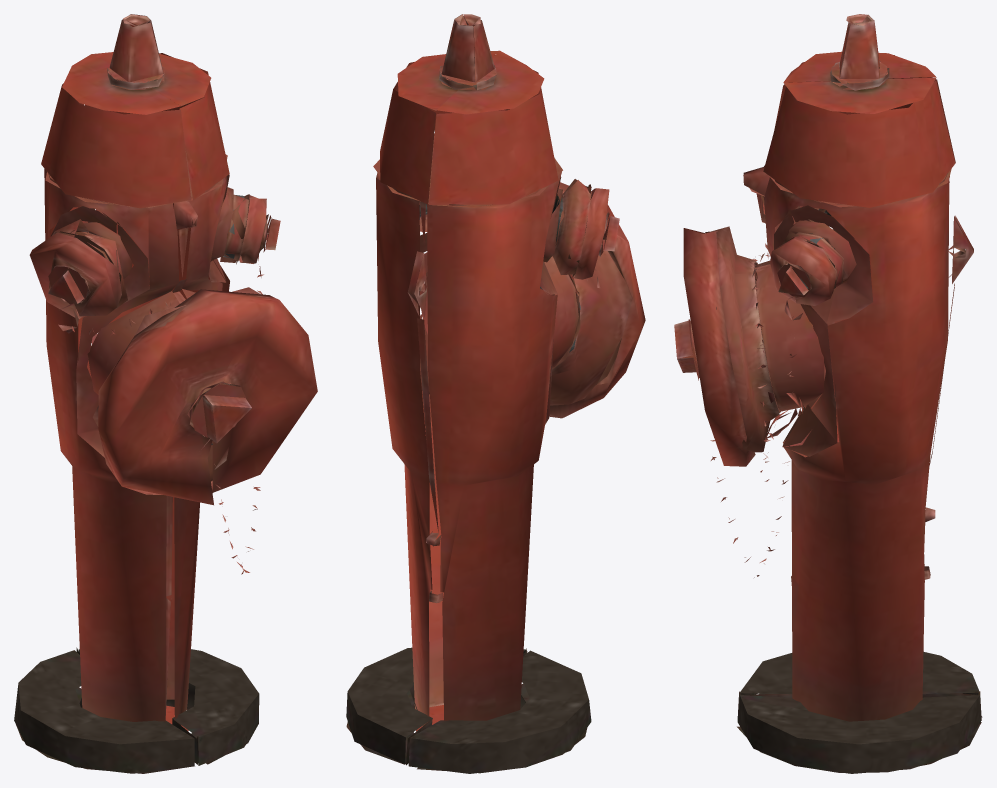
The model's file is hydrant_ph.glb.
3 views of the same model, side by side, from view 1: azimuth 30°, elevation 25°; view 2: azimuth 150°, elevation 25°; view 3: azimuth 270°, elevation 25° (orthographic).
Parts seen in each view (by area): view 1: hydrant_ph-col; view 2: hydrant_ph-col; view 3: hydrant_ph-col.
Boxes of the visible parts, x1=… form: hydrant_ph-col: x1=14, y1=14, x2=317, y2=773; hydrant_ph-col: x1=346, y1=14, x2=645, y2=773; hydrant_ph-col: x1=674, y1=14, x2=982, y2=773.
Bounding box in the file's own units: 0.2777 × 0.8004 × 0.3184.
1 material, 1 textured.
